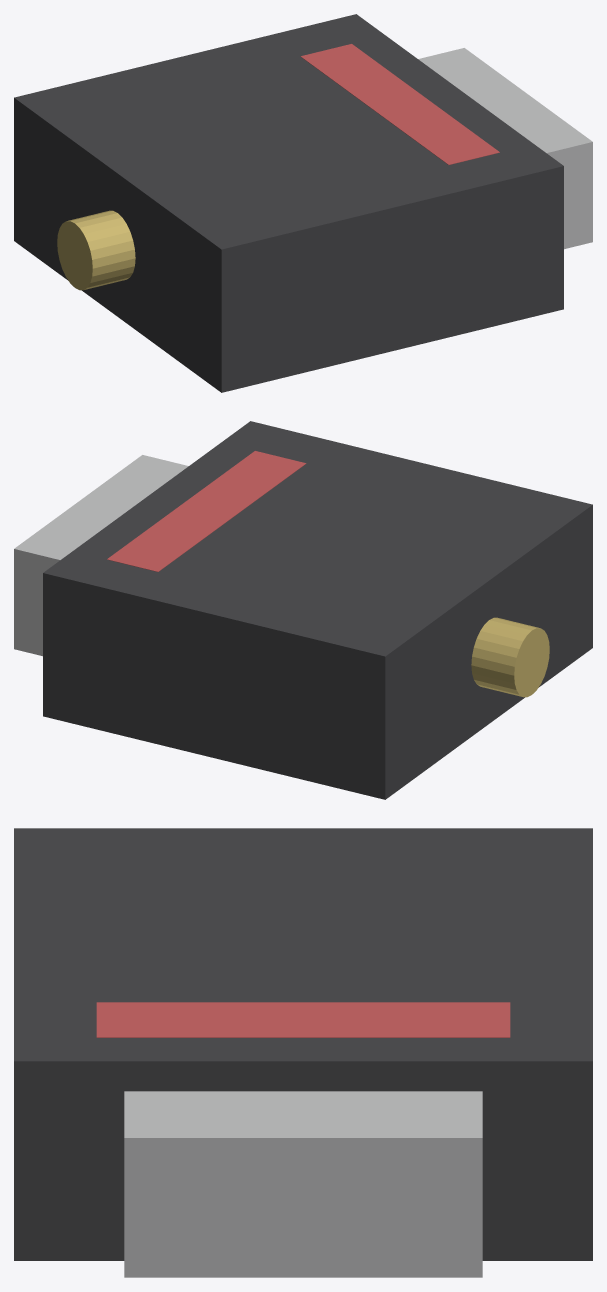
File: sdr_dongle.glb
3 renders of one model, top to bottom at view 1: azimuth 30°, elevation 25°; view 2: azimuth 150°, elevation 25°; view 3: azimuth 270°, elevation 25°, orthographic. The views are drawn at different scales.
Parts seen in each view (by area): view 1: c0, c1, c3, c2; view 2: c0, c1, c3, c2; view 3: c0, c1, c3.
Part boxes in pixels (x1,y1,x2,y2): c0: [14, 14, 563, 392]; c1: [418, 48, 592, 249]; c3: [300, 44, 499, 164]; c2: [57, 210, 135, 290]; c0: [43, 421, 592, 799]; c1: [14, 455, 188, 656]; c3: [107, 451, 306, 571]; c2: [471, 617, 549, 697]; c0: [14, 828, 592, 1260]; c1: [124, 1091, 482, 1277]; c3: [96, 1002, 510, 1037].
Bounding box in the file's own units: 26.5 × 8.04 × 21.
